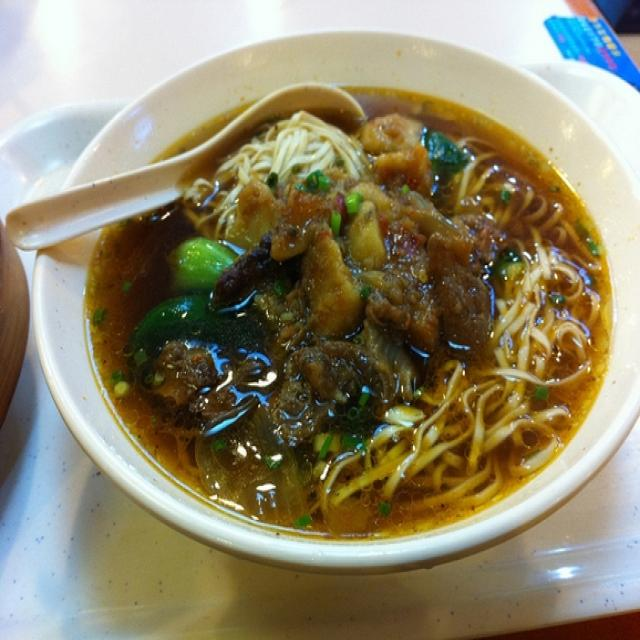面条主食: (50, 53, 628, 544)
